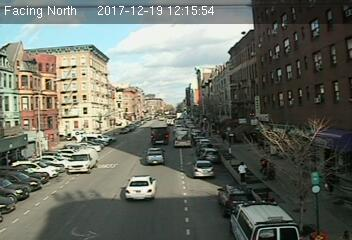car: (217, 182, 253, 214), (124, 174, 157, 200), (193, 160, 214, 178), (201, 149, 221, 163), (147, 147, 164, 163)
pedestrian: (236, 158, 250, 183)
police: (228, 199, 304, 240)
truck: (68, 147, 98, 173), (174, 127, 191, 148)
ups: (150, 125, 170, 147)
